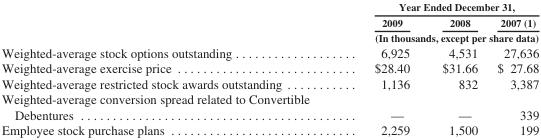table: (0, 0, 538, 137)
table column: (0, 0, 341, 137), (341, 0, 425, 137), (425, 0, 486, 137), (486, 0, 538, 137)
table column header: (0, 0, 538, 44)
table row: (0, 91, 538, 122), (0, 14, 538, 30), (0, 44, 538, 60), (0, 75, 538, 91), (0, 60, 538, 75), (0, 122, 538, 137), (0, 0, 538, 14), (0, 30, 538, 44)
table spanning cell: (341, 0, 538, 14), (341, 30, 538, 44)
